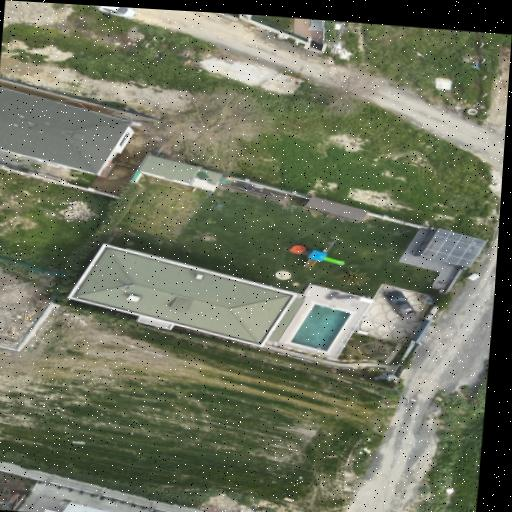car: (385, 289, 416, 315), (98, 6, 136, 18)
